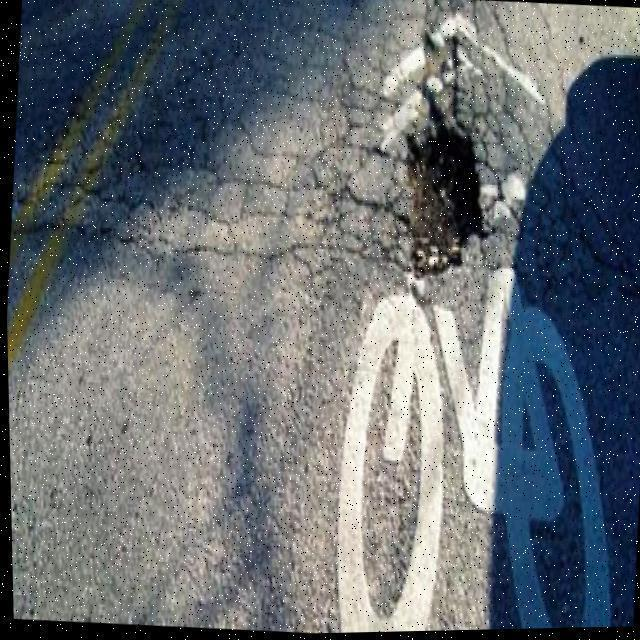Pothole: (397, 108, 491, 295)
